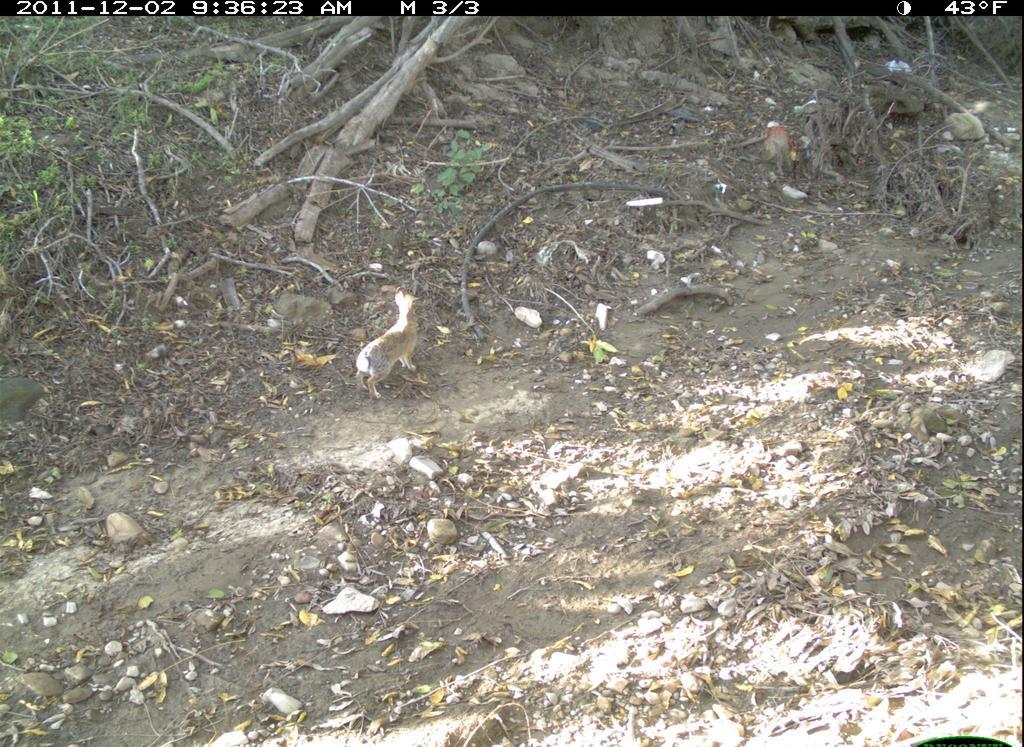rabbit: (336, 281, 438, 415)
